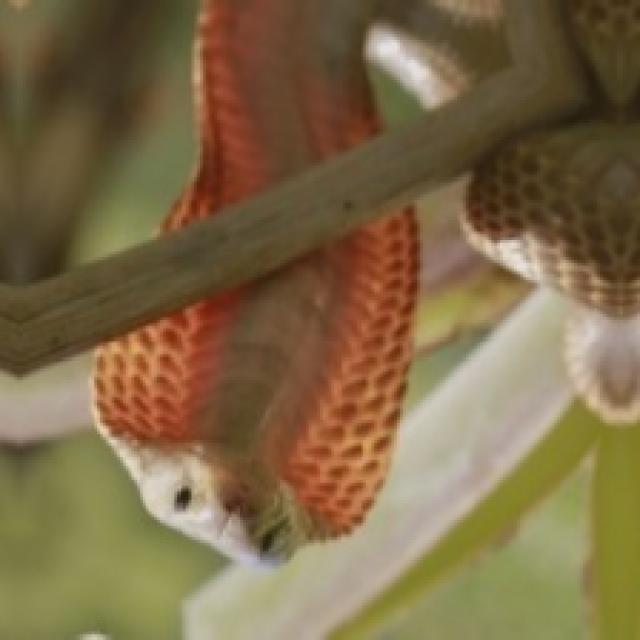philippine cobra: (94, 209, 417, 560), (94, 209, 414, 560), (166, 0, 400, 226), (166, 0, 377, 229), (461, 126, 640, 316), (466, 122, 640, 283)
